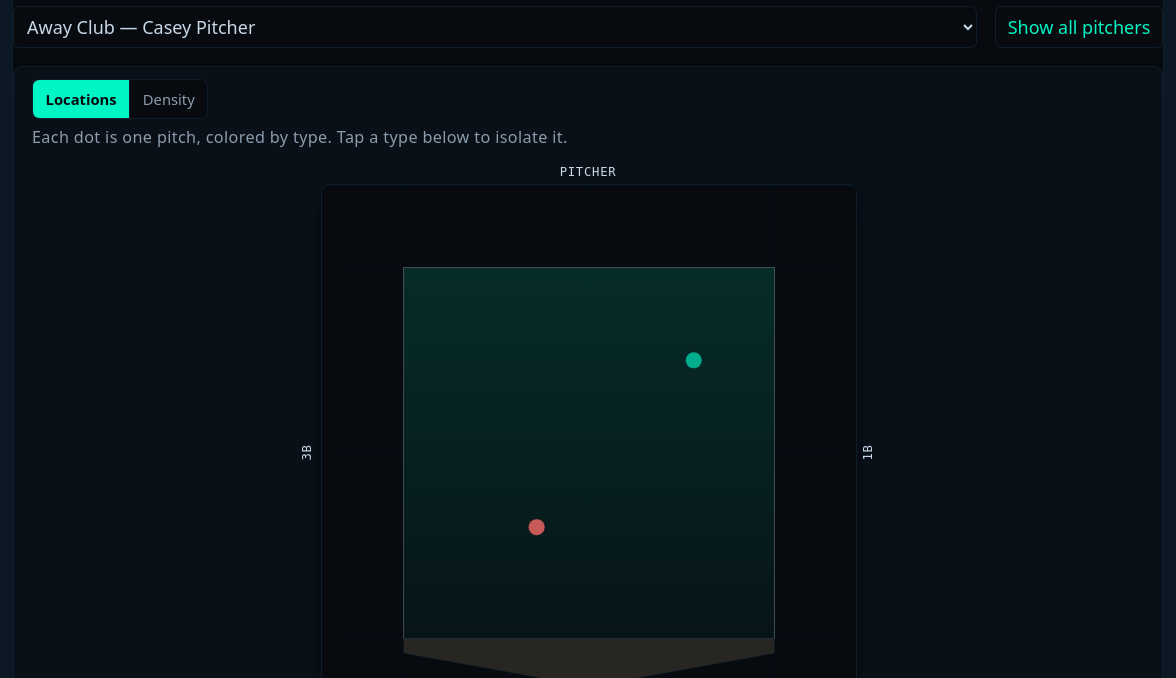
GamePitcherStrikeZones › switches to density map without the Locations color key
Click the button "Density": (169, 99) [130,80,207,118]
(page scrolled)
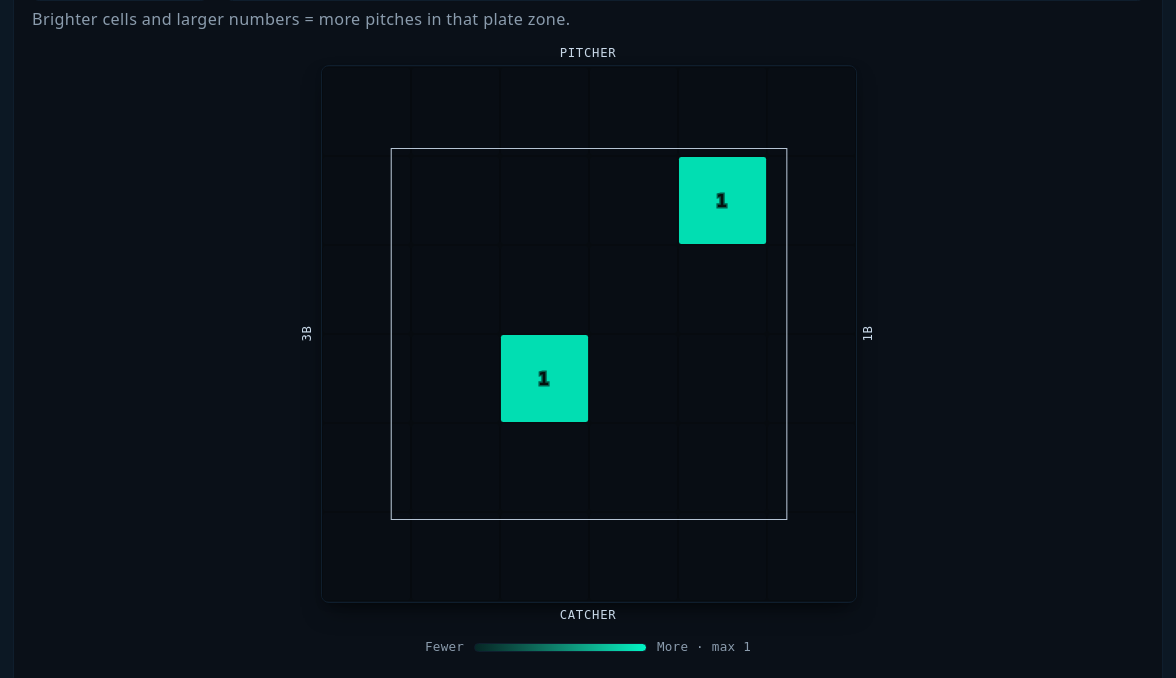
Expected: the text "Catcher" is shown, [560,608,616,622]
Expected: the text "Brighter cells and larger numbers = more pitches" is shown, [32,8,570,30]
